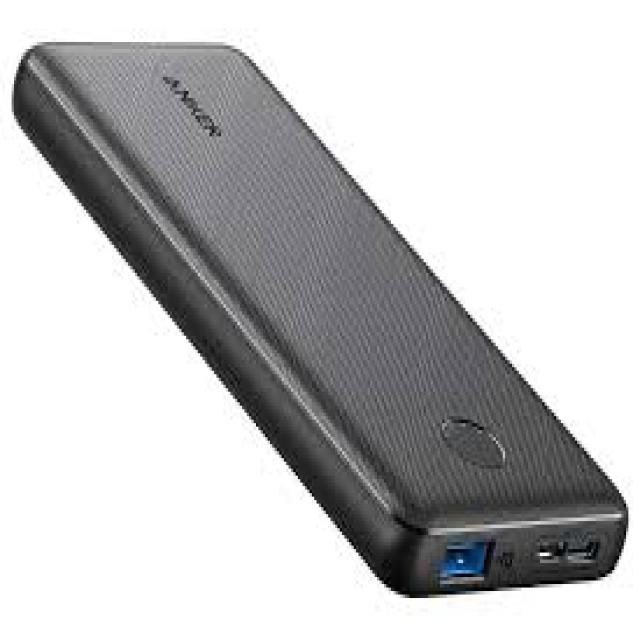portable-charger: (10, 38, 630, 603)
